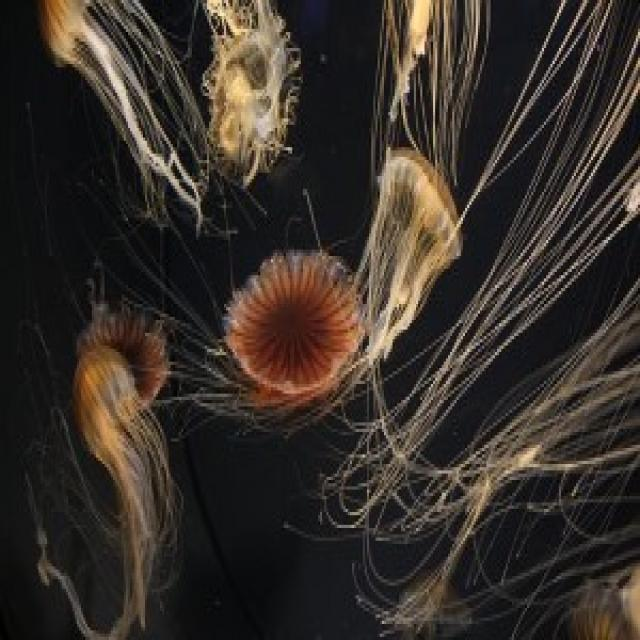Jellyfish: (65, 309, 174, 541), (223, 243, 362, 417), (370, 135, 466, 330), (202, 0, 293, 176), (26, 0, 167, 112), (353, 0, 480, 100)
